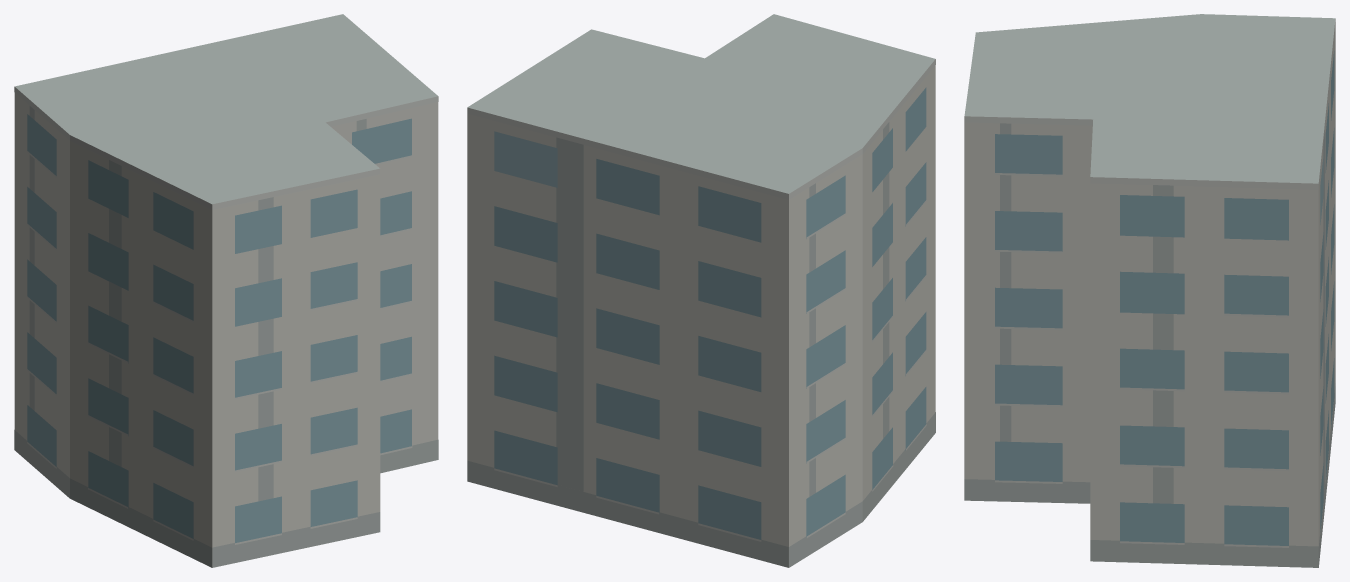
Rendered from survey-upis-32728702.glb.
3 renders of one model, left to right at view 1: azimuth 30°, elevation 25°; view 2: azimuth 150°, elevation 25°; view 3: azimuth 270°, elevation 25°, orthographic. The views are drawn at different scales.
Visible parts, largest first — view 1: survey-upis-32728702.tmp; view 2: survey-upis-32728702.tmp; view 3: survey-upis-32728702.tmp.
Part boxes in pixels (left/top/right/bottom): survey-upis-32728702.tmp: left=14, top=14, right=438, bottom=567; survey-upis-32728702.tmp: left=467, top=14, right=935, bottom=567; survey-upis-32728702.tmp: left=964, top=14, right=1335, bottom=567.
Size of the model in its own units: 14.45 by 15.25 by 13.36.
